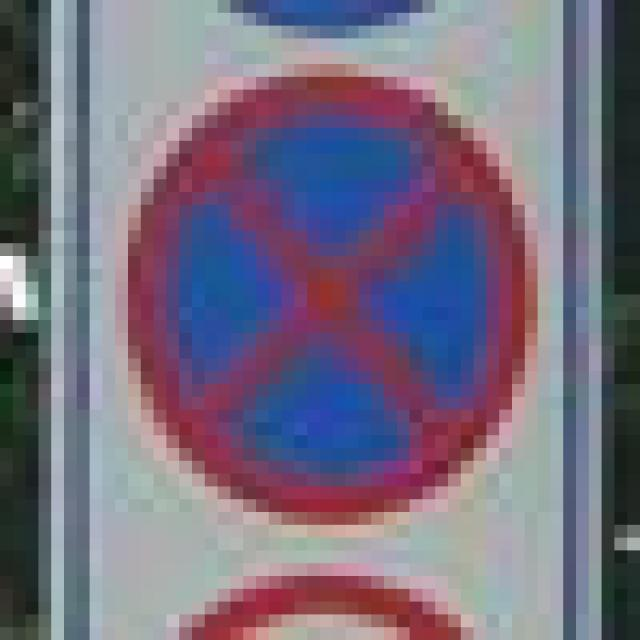NO_STOPPING_OR_STANDING: (115, 51, 525, 512)
